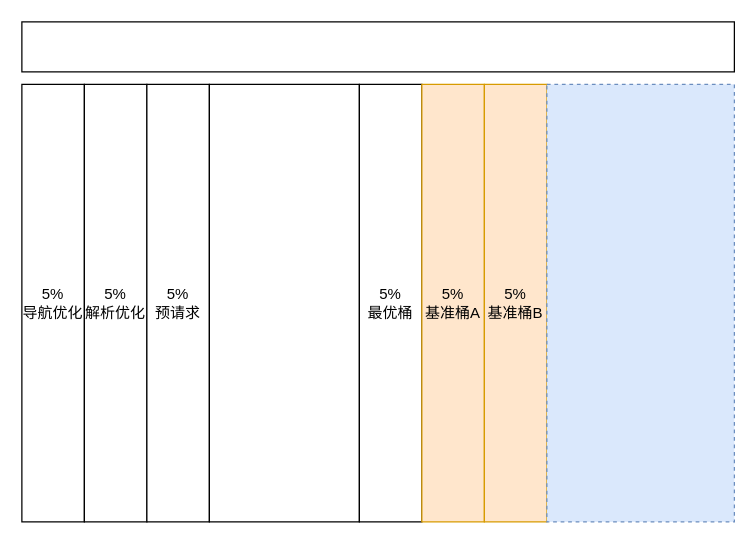
Image size: 756x544. Some labels were removed from this diagram. Each missing label, with the centre of its shape:
"100%流量" goes at point (377, 46).
"N% 优化..." goes at point (283, 302).
"空桶" goes at point (640, 302).
